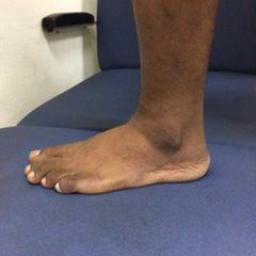Lateral View -Left Foot-: (18, 100, 227, 198)
